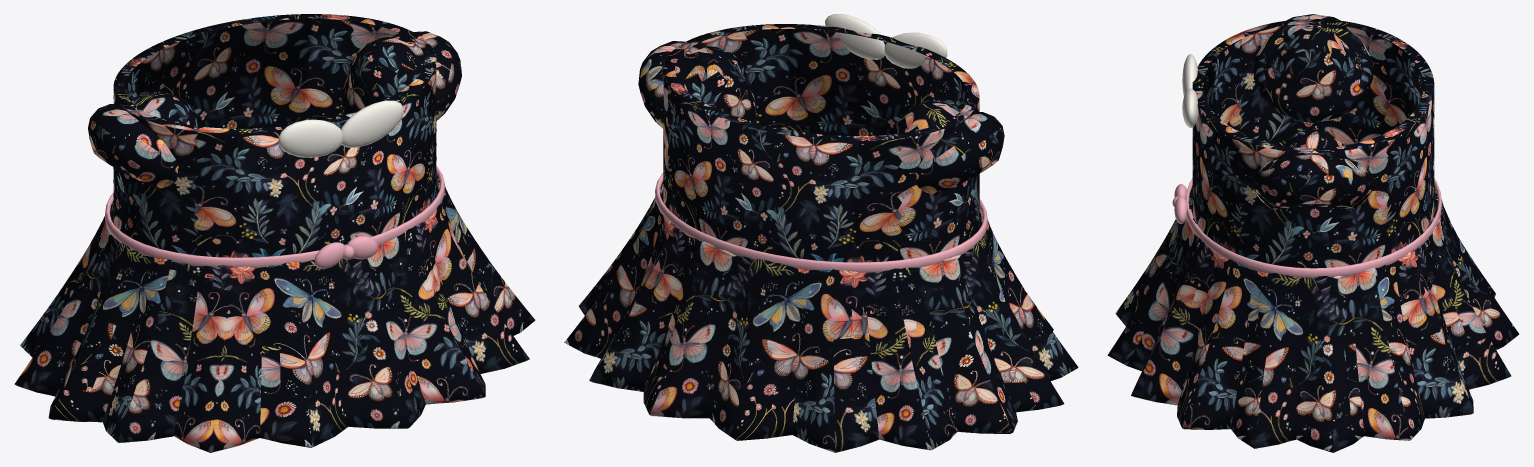
The model's file is dress2.fbx.
3 renders of one model, left to right at view 1: azimuth 30°, elevation 25°; view 2: azimuth 150°, elevation 25°; view 3: azimuth 270°, elevation 25°, orthographic. The views are drawn at different scales.
Parts seen in each view (by area): view 1: dress2; view 2: dress2; view 3: dress2.
Part boxes in pixels (box(x1,y1,x2,y2)): dress2: box(14, 14, 535, 452); dress2: box(564, 14, 1078, 452); dress2: box(1107, 14, 1519, 452).
Size of the model in its own units: 1.34 by 0.7883 by 1.09.
3 materials, 1 textured.
